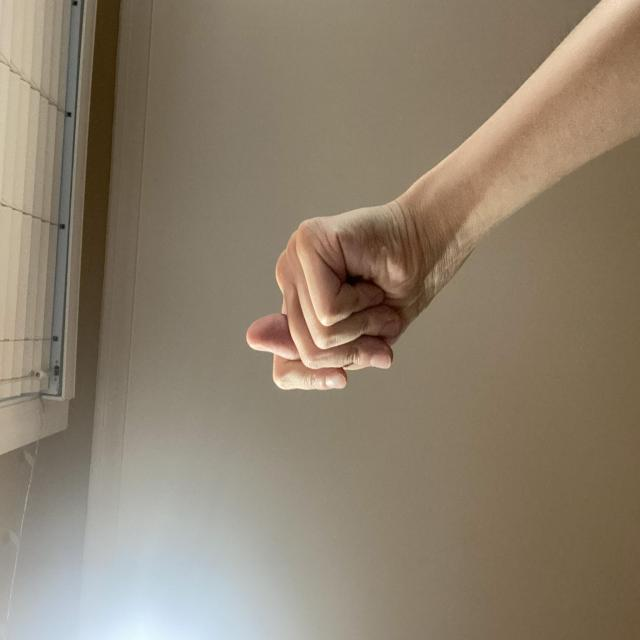T: (180, 321, 345, 577)
